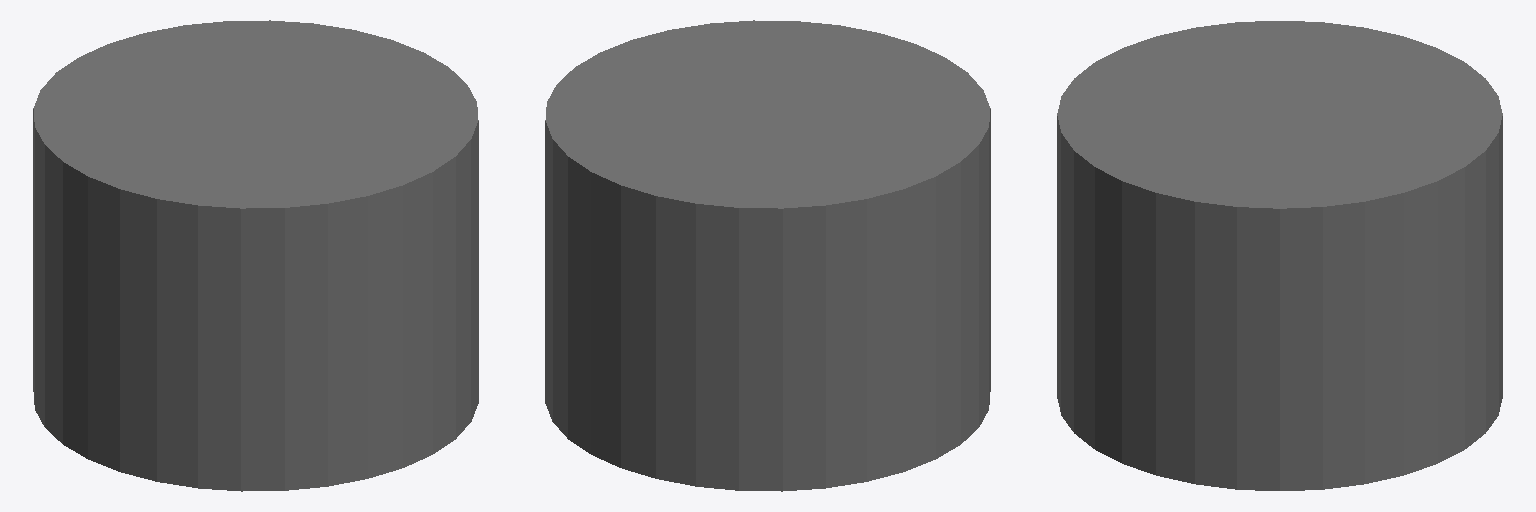
robot.urdf — cylinder_sdf:
<?xml version="1.0"?>
<robot name="cylinder_sdf">
  <link name="cylinder">
    <visual>
      <origin xyz="0 0 0"/>
      <geometry>
        <mesh filename="sdf/cylinder_50x35mm.obj"/>
      </geometry>
      <material name="gray">
        <color rgba="0.5 0.5 0.5 1.0"/>
      </material>
    </visual>

    <collision>
      <origin xyz="0 0 0"/>
      <geometry>
        <mesh filename="sdf/cylinder_50x35mm.obj"/>
      </geometry>
      <sdf resolution="256"/>
    </collision>

    <inertial>
      <origin xyz="0 0 0"/>
      <mass value="0.05"/>
      <inertia ixx="1.2917e-5" ixy="0.0" ixz="0.0"
               iyy="1.2917e-5" iyz="0.0"
               izz="1.5625e-5"/>
    </inertial>
  </link>
</robot>

--- Render facts (derived) ---
3 views of the same robot in one strip: view 1: azimuth 30°, elevation 25°; view 2: azimuth 150°, elevation 25°; view 3: azimuth 270°, elevation 25° (orthographic).
Model cylinder_sdf with 1 links and 0 joints (none), rooted at cylinder, posed every joint at zero.
Visible links, largest first — view 1: cylinder; view 2: cylinder; view 3: cylinder.
Link boxes in pixels (x1,y1,x2,y2): cylinder: [33, 20, 478, 491]; cylinder: [545, 20, 990, 491]; cylinder: [1057, 21, 1502, 490].
Bounding box of the posed robot: 0.05 × 0.05 × 0.035 m (x, y, z).
1 mesh visuals loaded from 1 distinct referenced files (1 OBJ).
